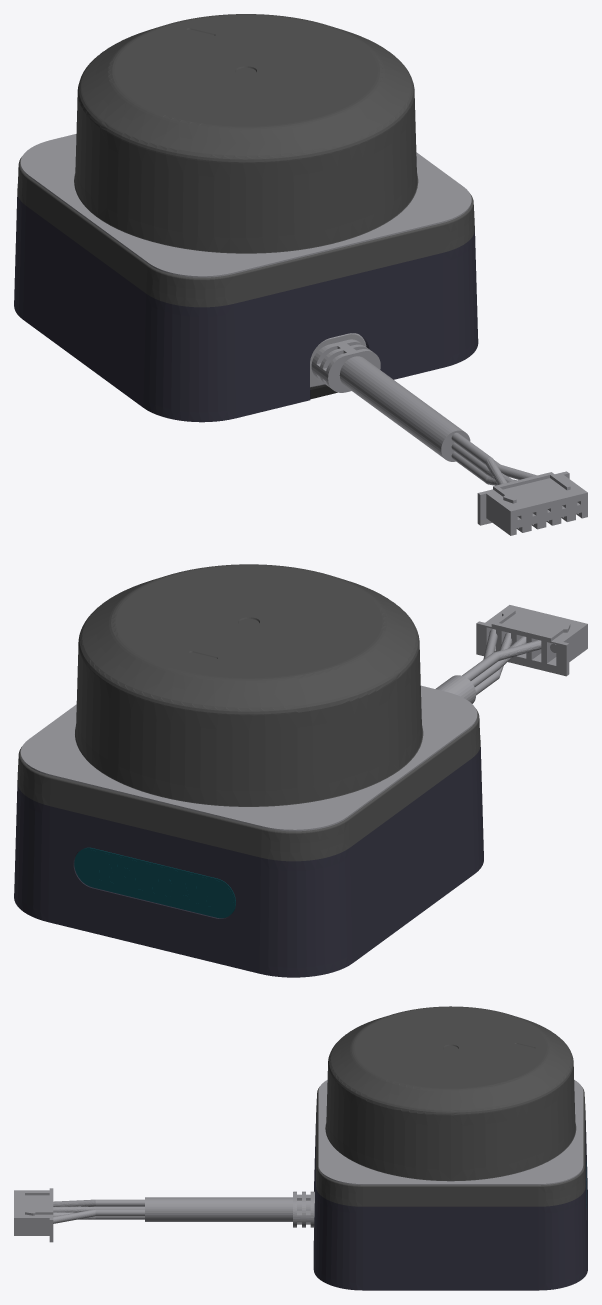
The model's file is slamtec-rplidar-s3.glb.
3 renders of one model, top to bottom at view 1: azimuth 30°, elevation 25°; view 2: azimuth 150°, elevation 25°; view 3: azimuth 270°, elevation 25°, orthographic. The views are drawn at different scales.
Parts seen in each view (by area): view 1: slamtec-rplidar-s3; view 2: slamtec-rplidar-s3; view 3: slamtec-rplidar-s3.
Boxes of the visible parts, box(x1,y1,x2,y2) form: slamtec-rplidar-s3: box(14, 14, 587, 535); slamtec-rplidar-s3: box(14, 564, 587, 977); slamtec-rplidar-s3: box(14, 1006, 587, 1290).
Bounding box in the file's own units: 55.6 × 41.3 × 116.
